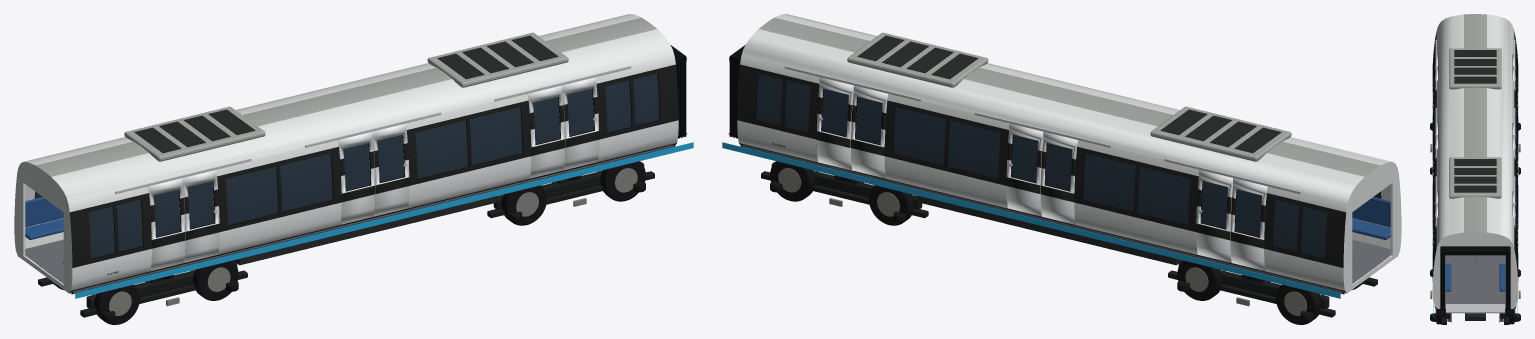
Rendered from mp14_car.glb.
3 renders of one model, left to right at view 1: azimuth 30°, elevation 25°; view 2: azimuth 150°, elevation 25°; view 3: azimuth 270°, elevation 25°, orthographic. The views are drawn at different scales.
Parts seen in each view (by area): view 1: mp14_car_neutral; view 2: mp14_car_neutral; view 3: mp14_car_neutral.
Boxes of the visible parts, x1,y1,x2,y2 form: mp14_car_neutral: (14,14,693,324); mp14_car_neutral: (722,14,1401,324); mp14_car_neutral: (1430,14,1520,324).
Bounding box in the file's own units: 15.19 × 3.48 × 2.59.
Materials: 6 (3 with a texture image).
